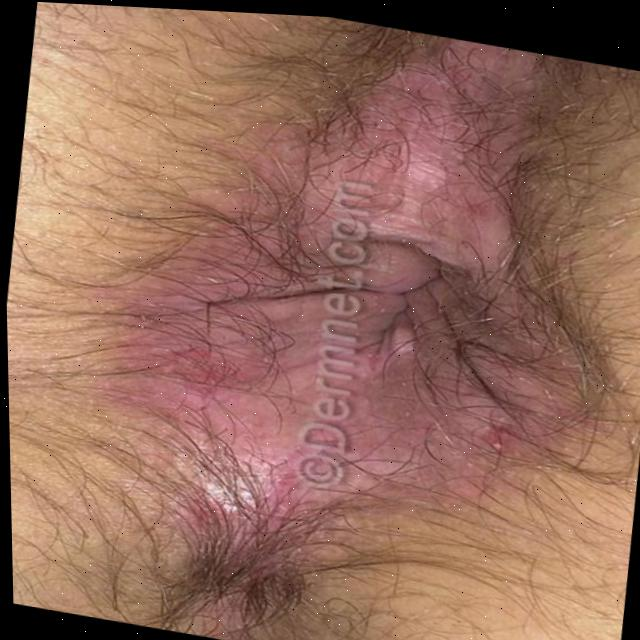Eczema: (93, 5, 622, 603)
